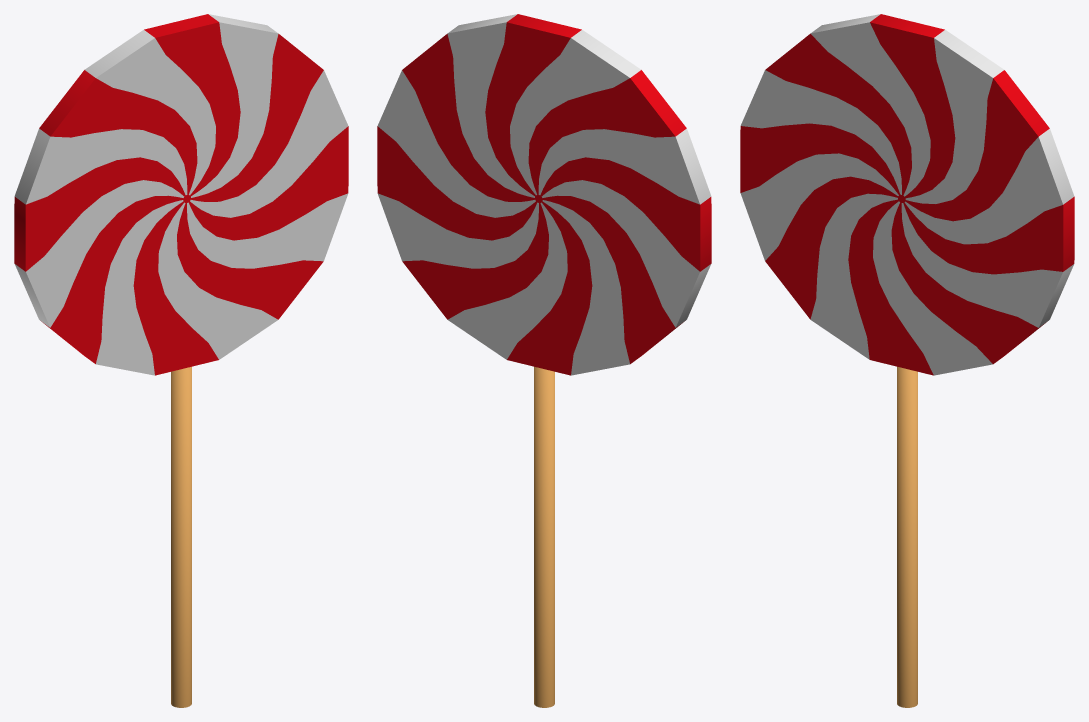
The model's file is PIRULETA 4.fbx.
The picture shows the model from 3 angles, left to right: view 1: azimuth 30°, elevation 25°; view 2: azimuth 150°, elevation 25°; view 3: azimuth 330°, elevation 25°; orthographic projection.
Visible parts, largest first — view 1: Piruleta; view 2: Piruleta; view 3: Piruleta.
Part boxes in pixels (<box>): Piruleta: <box>14,14,348,707</box>; Piruleta: <box>377,14,711,707</box>; Piruleta: <box>740,14,1074,707</box>.
Size of the model in its own units: 979 by 1964 by 59.48.
